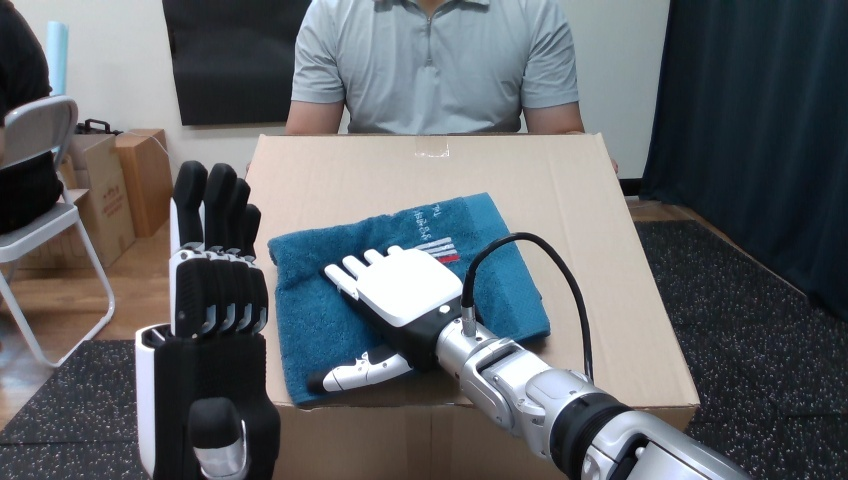left robot hand: (312, 232, 748, 479), (135, 161, 279, 478), (473, 240, 585, 373)
